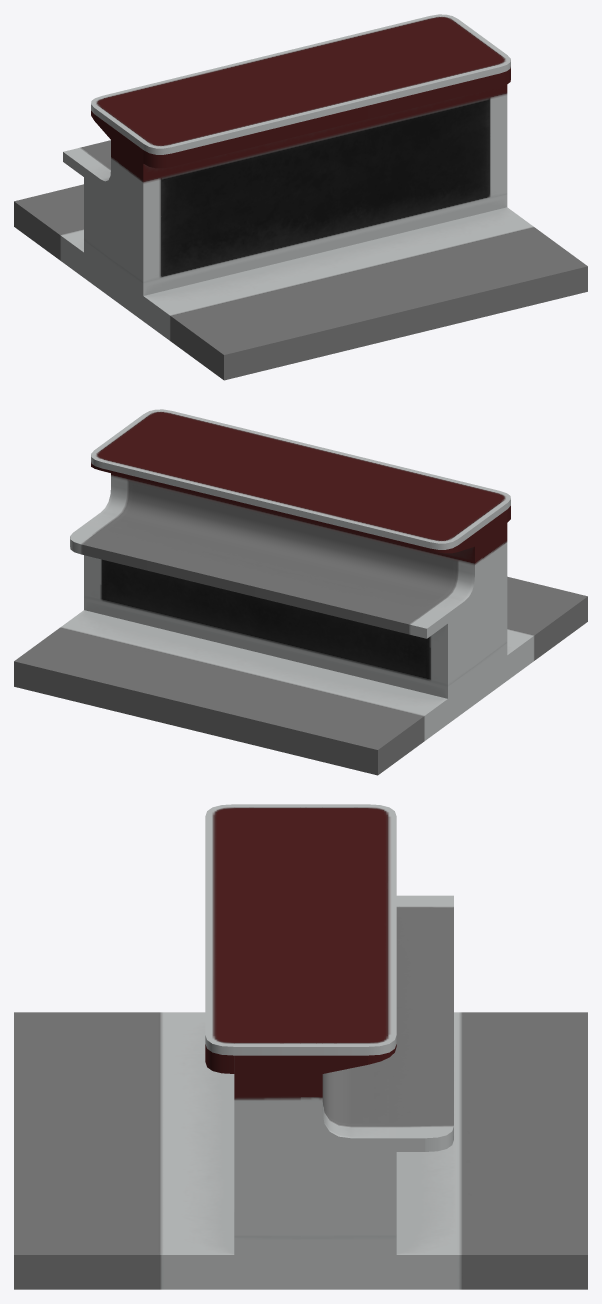
Rendered from Room_Floor_Line_A.FBX.
The picture shows the model from 3 angles, top to bottom: view 1: azimuth 30°, elevation 25°; view 2: azimuth 150°, elevation 25°; view 3: azimuth 270°, elevation 25°; orthographic projection. The views are drawn at different scales.
Parts seen in each view (by area): view 1: Room_Floor_Line_A; view 2: Room_Floor_Line_A; view 3: Room_Floor_Line_A.
Part boxes in pixels (x1,y1,x2,y2): Room_Floor_Line_A: [14, 14, 587, 380]; Room_Floor_Line_A: [14, 409, 587, 775]; Room_Floor_Line_A: [14, 804, 587, 1289].
Bounding box in the file's own units: 300 × 140 × 300.
1 material, 1 textured.
